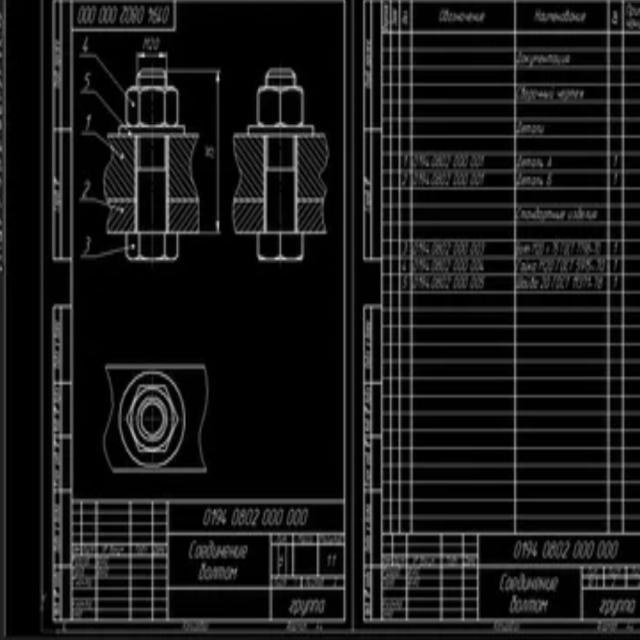marking_line: (202, 67, 223, 236), (187, 66, 224, 131), (79, 49, 125, 95), (78, 91, 119, 124), (79, 241, 125, 259), (80, 130, 110, 150), (77, 194, 105, 207)
